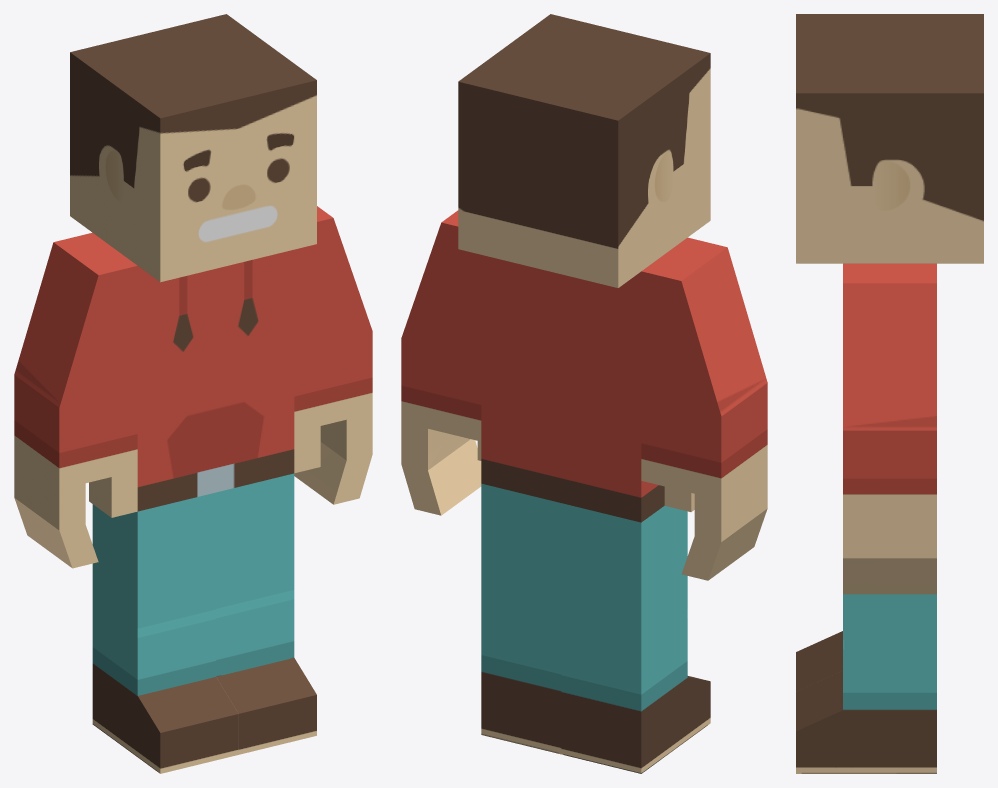
Rendered from man1.gltf.
3 renders of one model, left to right at view 1: azimuth 30°, elevation 25°; view 2: azimuth 150°, elevation 25°; view 3: azimuth 270°, elevation 25°, orthographic. The views are drawn at different scales.
Parts seen in each view (by area): view 1: Head1, Body1, ArmRight1, LegRight1, LegLeft1, ArmLeft1; view 2: Head1, Body1, ArmRight1, LegRight1, LegLeft1, ArmLeft1; view 3: Head1, ArmLeft1, LegLeft1, LegRight1.
Boxes of the visible parts, x1,y1,x2,y2 form: Head1: [70, 14, 316, 282]; Body1: [137, 249, 294, 511]; ArmRight1: [14, 232, 137, 568]; LegRight1: [92, 492, 238, 773]; LegLeft1: [216, 473, 316, 754]; ArmLeft1: [294, 206, 372, 504]; Head1: [458, 14, 710, 287]; Body1: [481, 255, 664, 522]; ArmRight1: [641, 237, 767, 580]; LegRight1: [561, 503, 710, 773]; LegLeft1: [481, 483, 561, 754]; ArmLeft1: [401, 210, 481, 515]; Head1: [796, 14, 983, 263]; ArmLeft1: [843, 263, 936, 594]; LegLeft1: [796, 594, 936, 773]; LegRight1: [796, 631, 842, 691].
Size of the model in its own units: 8 by 16 by 4.
1 material, 1 textured.
